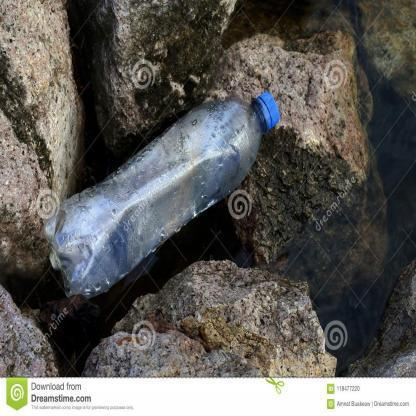plastic bottle: (41, 92, 280, 296)
